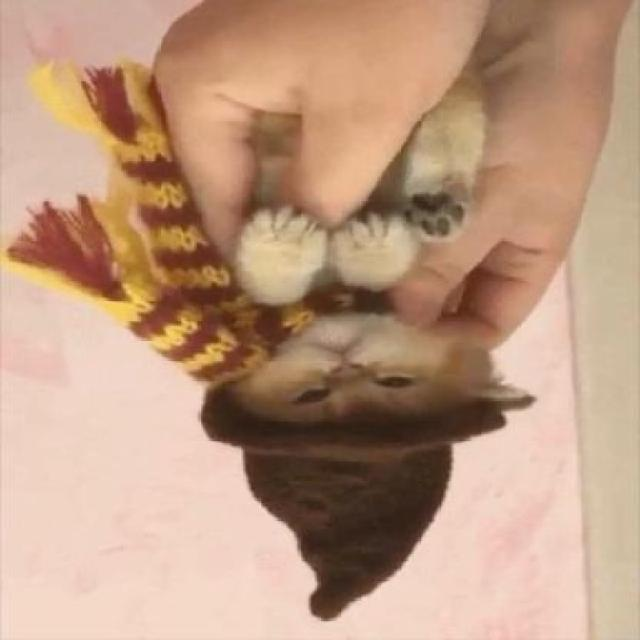cat: (160, 80, 548, 449)
